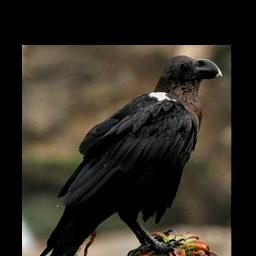Crow: (31, 53, 219, 256)
